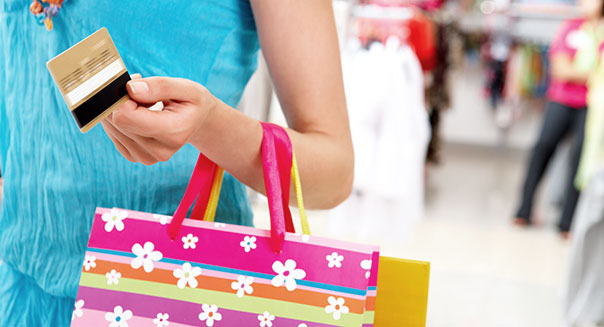tarjeta: (46, 26, 136, 134)
